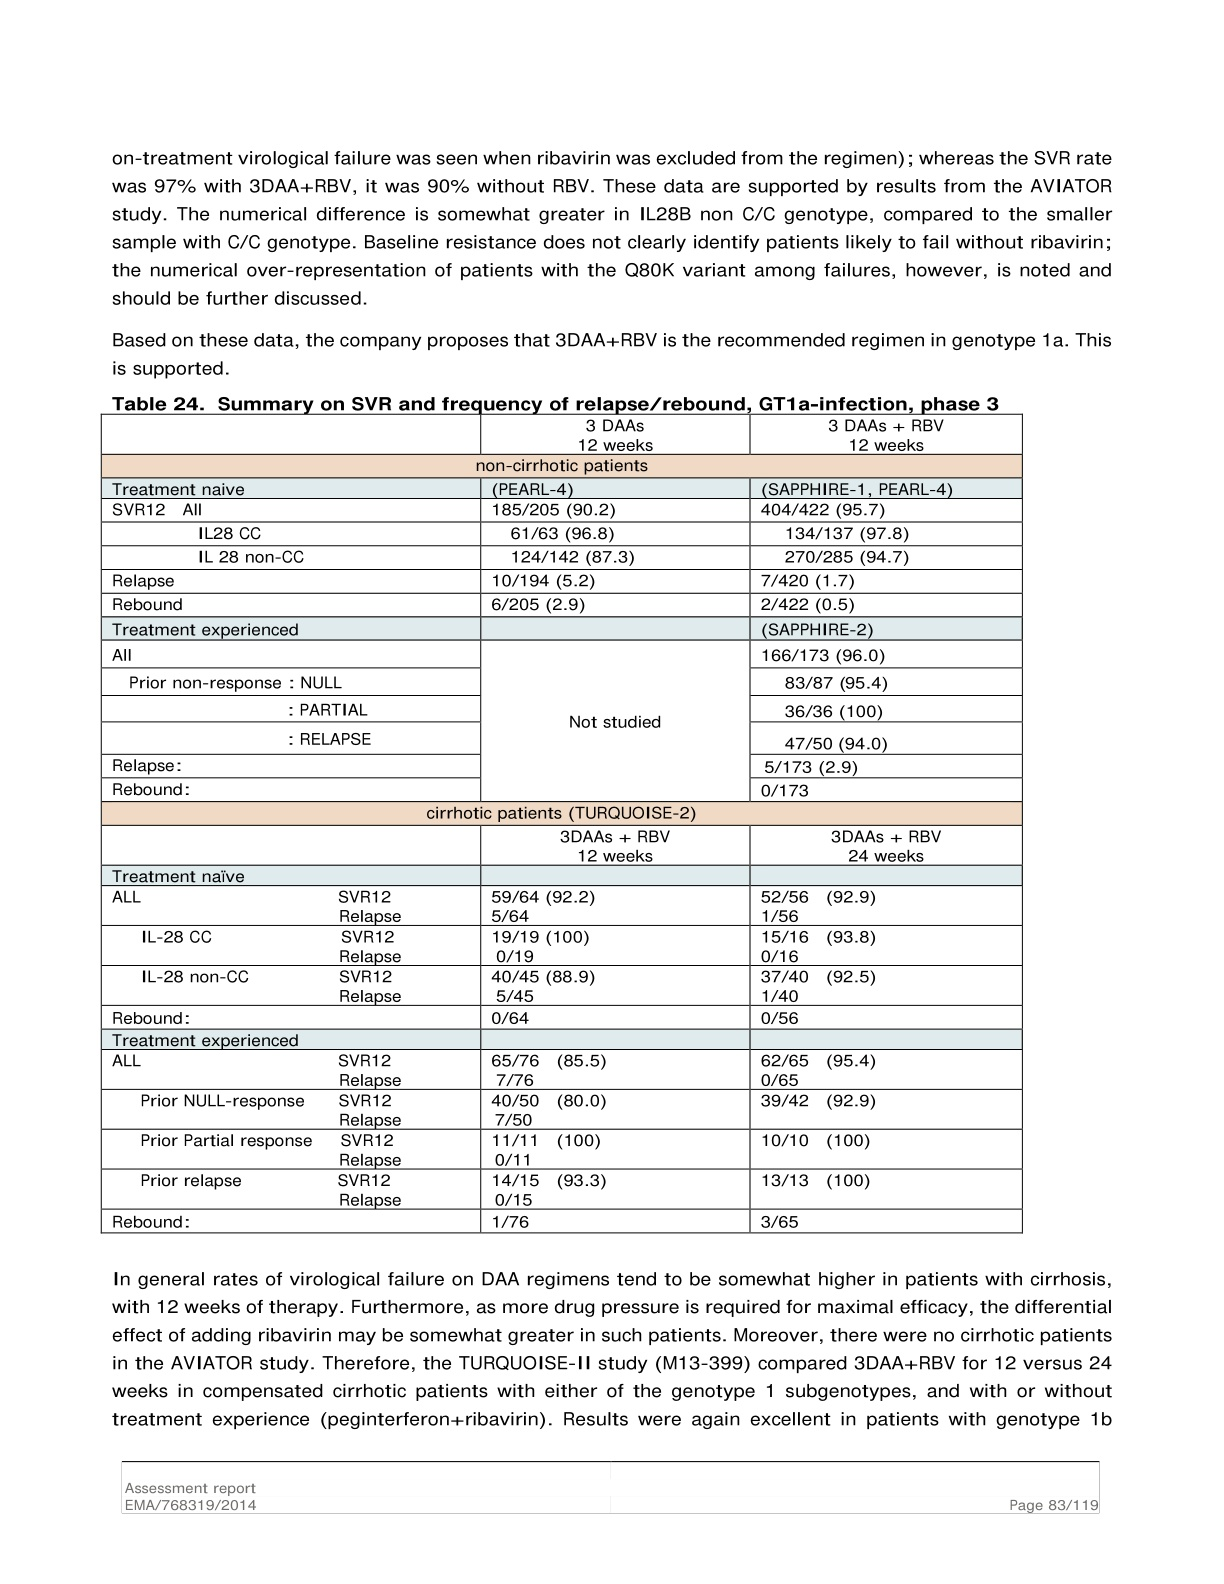merged_cells: (100, 411, 1023, 1233)
